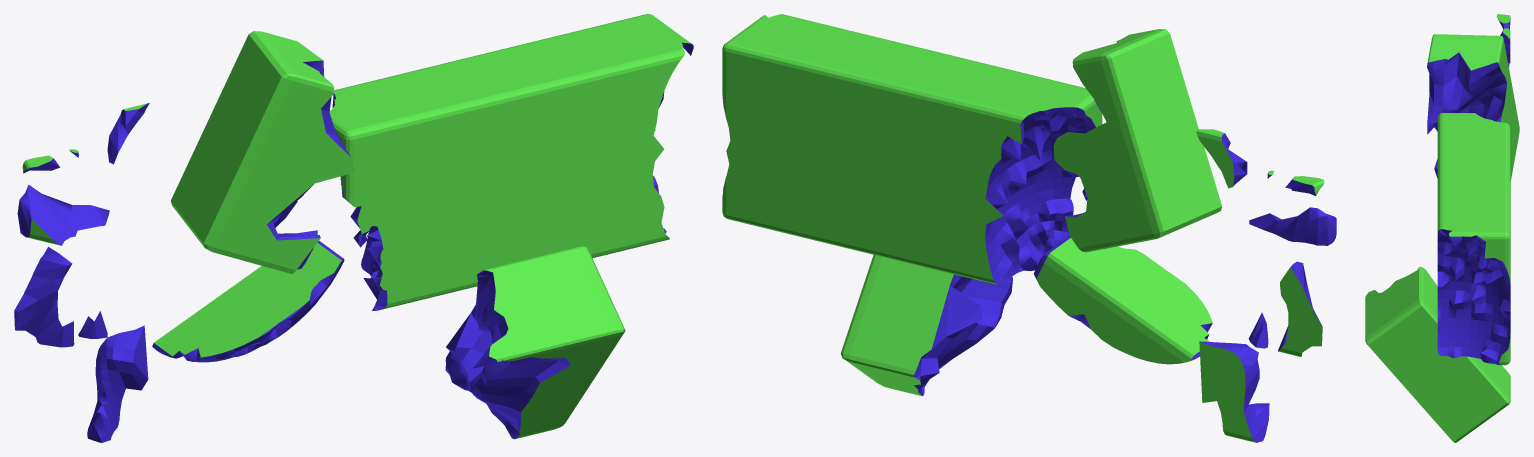
The model's file is rubbles .dae.
3 renders of one model, left to right at view 1: azimuth 30°, elevation 25°; view 2: azimuth 150°, elevation 25°; view 3: azimuth 270°, elevation 25°, orthographic. The views are drawn at different scales.
Visible parts, largest first — view 1: damaged_block1_Cube.001, damaged_block3_Cube.001, damaged_block2_Cube.001, damaged_block4_Cube.001, rubbles2_Cube.001, rubbles3_Cube.001, rubbles1_Cube.001, rubbles4_Cube.001; view 2: damaged_block1_Cube.001, damaged_block3_Cube.001, damaged_block2_Cube.001, damaged_block4_Cube.001, rubbles2_Cube.001, rubbles3_Cube.001, rubbles1_Cube.001, rubbles4_Cube.001; view 3: damaged_block1_Cube.001, damaged_block2_Cube.001, damaged_block3_Cube.001, rubbles4_Cube.001, small_rubbles2_Cube.001.
Part boxes in pixels (<box>): damaged_block1_Cube.001: <box>329,14,693,310</box>; damaged_block3_Cube.001: <box>171,31,354,273</box>; damaged_block2_Cube.001: <box>445,246,625,439</box>; damaged_block4_Cube.001: <box>152,240,344,362</box>; rubbles2_Cube.001: <box>87,325,148,442</box>; rubbles3_Cube.001: <box>14,246,74,347</box>; rubbles1_Cube.001: <box>17,184,109,245</box>; rubbles4_Cube.001: <box>107,103,149,164</box>; damaged_block1_Cube.001: <box>722,14,1102,284</box>; damaged_block3_Cube.001: <box>1053,29,1221,252</box>; damaged_block2_Cube.001: <box>840,255,1012,396</box>; damaged_block4_Cube.001: <box>1033,235,1212,364</box>; rubbles2_Cube.001: <box>1199,341,1269,442</box>; rubbles3_Cube.001: <box>1278,261,1322,356</box>; rubbles1_Cube.001: <box>1249,207,1336,245</box>; rubbles4_Cube.001: <box>1196,129,1247,188</box>; damaged_block1_Cube.001: <box>1437,113,1510,365</box>; damaged_block2_Cube.001: <box>1365,266,1510,442</box>; damaged_block3_Cube.001: <box>1427,34,1519,180</box>; rubbles4_Cube.001: <box>1500,28,1510,63</box>; small_rubbles2_Cube.001: <box>1496,14,1510,29</box>.
Bounding box in the file's own units: 3.59 × 1.06 × 2.36.
